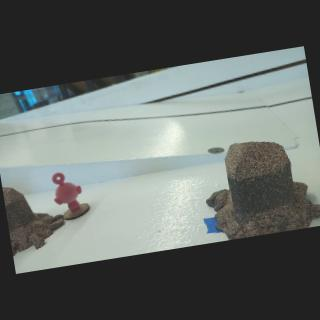teletubby: (52, 173, 82, 213)
